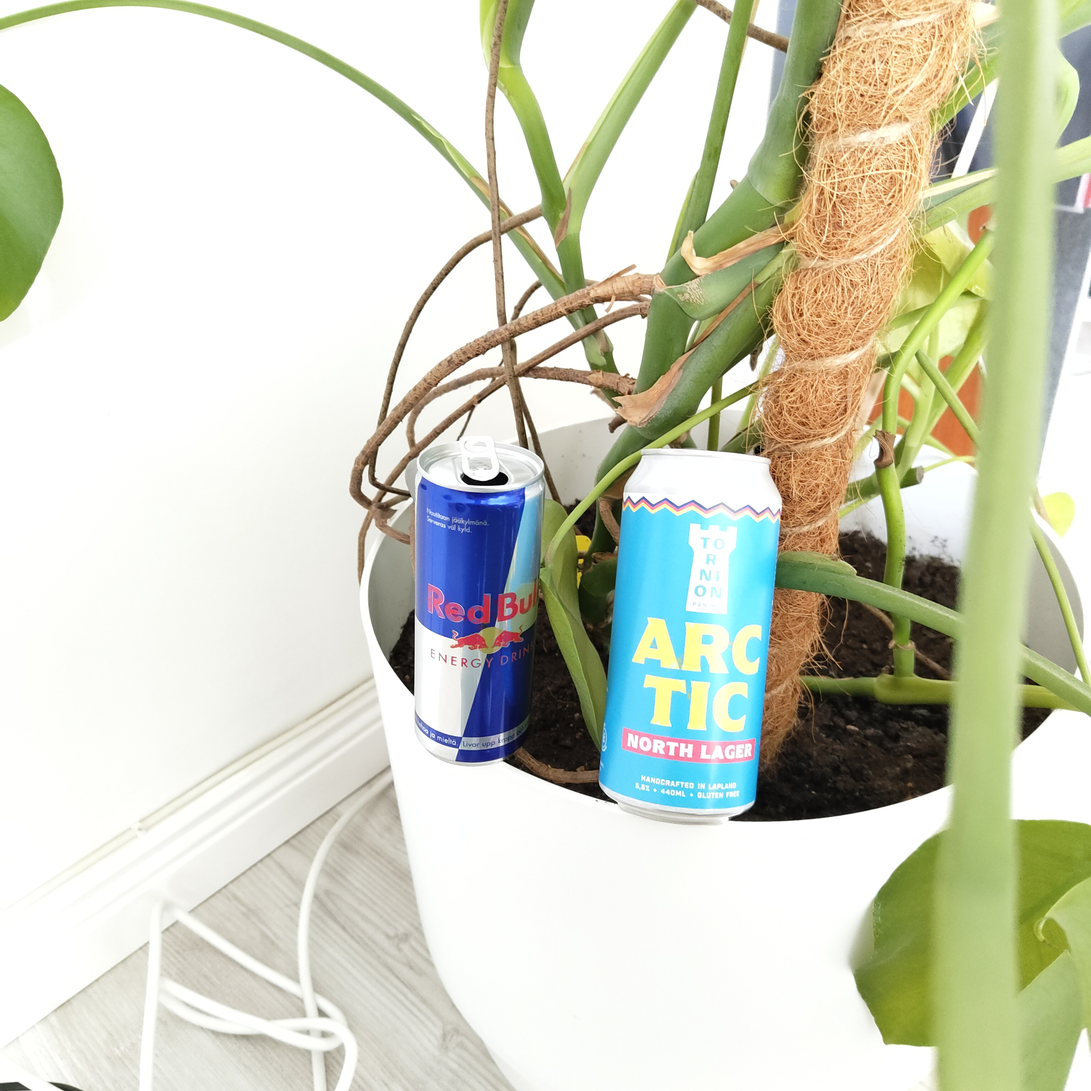Pantburk: (598, 448, 783, 828), (414, 434, 546, 767)
